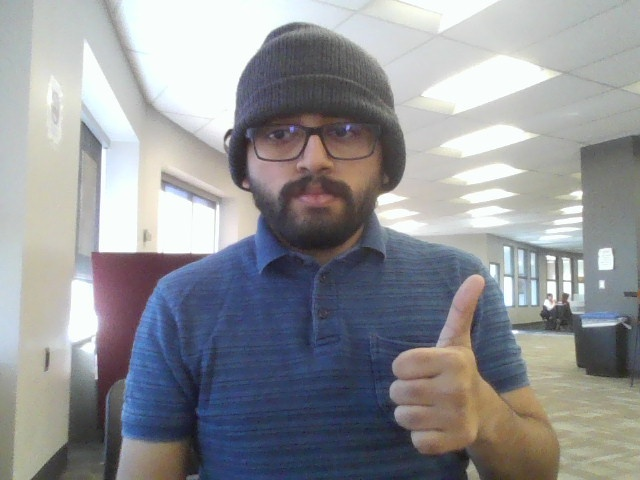start: (392, 272, 495, 469)
